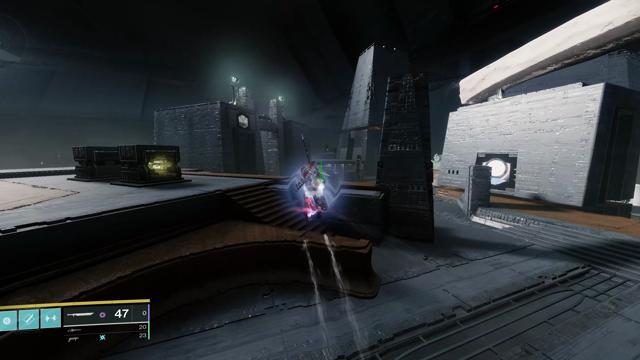commune: (238, 115, 249, 128)
traveler: (482, 159, 511, 185)
